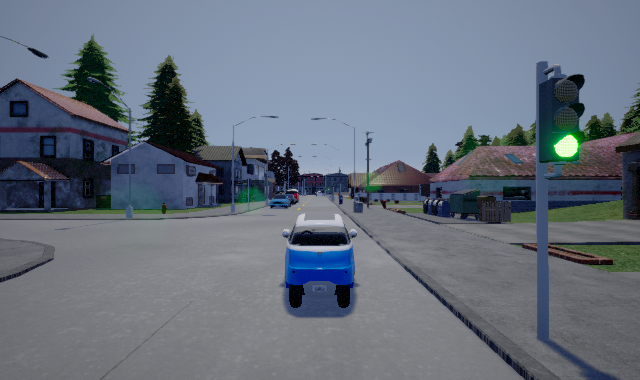traffic_light: (539, 64, 585, 179)
vehicle: (282, 213, 357, 308), (269, 189, 299, 209)
